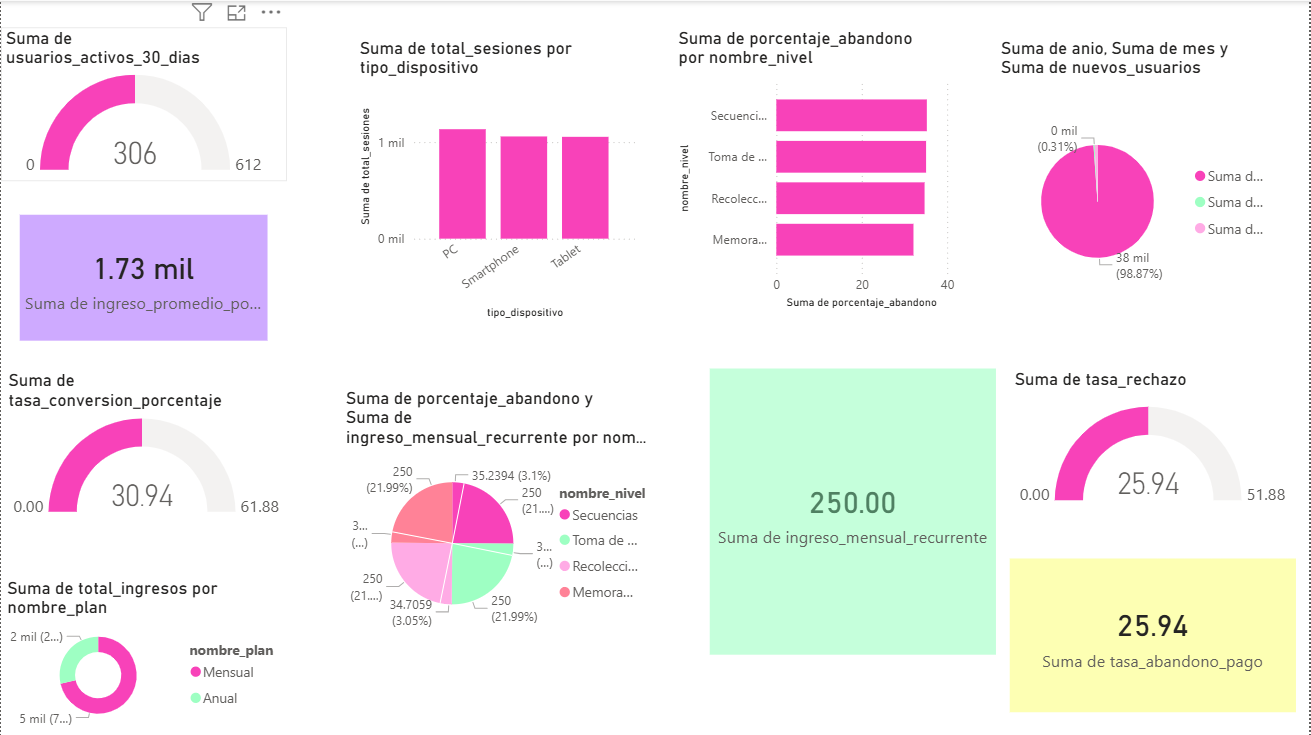

The page's visual inventory and layout, read from the dashboard file:
{"tool":"powerbi","page":{"name":"Página 1","canvas":[1280,720],"ordinal":0},"visuals":[{"type":"card","fields":{"Values":["Sum(pimpamboing kpi_7_mrr.ingreso_mensual_recurrente)"]},"box":[693,359.5,279.9,279.9],"z":0},{"type":"barChart","fields":{"Category":["pimpamboing kpi_6_abandono_niveles.nombre_nivel"],"Y":["Sum(pimpamboing kpi_6_abandono_niveles.porcentaje_abandono)"]},"box":[657.3,26.1,279.9,279.9],"z":1000},{"type":"donutChart","fields":{"Category":["pimpamboing kpi_4_revenue_mix.nombre_plan"],"Y":["Sum(pimpamboing kpi_4_revenue_mix.total_ingresos)"]},"box":[1.2,563.7,280,150.4],"z":2000},{"type":"pieChart","fields":{"Category":["pimpamboing kpi_6_abandono_niveles.nombre_nivel"],"Y":["Sum(pimpamboing kpi_6_abandono_niveles.porcentaje_abandono)","Sum(pimpamboing kpi_7_mrr.ingreso_mensual_recurrente)"]},"box":[332.6,377.9,308.2,243.3],"z":3000},{"type":"pieChart","fields":{"Y":["Sum(pimpamboing kpi_8_crecimiento_usuarios.anio)","Sum(pimpamboing kpi_8_crecimiento_usuarios.mes)","Sum(pimpamboing kpi_8_crecimiento_usuarios.nuevos_usuarios)"]},"box":[972.9,35.7,279.9,279.9],"z":4000},{"type":"gauge","fields":{"Y":["Sum(pimpamboing kpi_9_rechazo_pagos.tasa_rechazo)"]},"box":[986.6,359.5,279.9,150.9],"z":5000},{"type":"gauge","fields":{"Y":["Sum(pimpamboing kpi_1_conversion_premium.tasa_conversion_porcentaje)"]},"box":[2.4,360.7,280,150.4],"z":6000},{"type":"card","fields":{"Values":["Sum(pimpamboing kpi_2_arpu.ingreso_promedio_por_plan)"]},"box":[18.3,209.1,242.1,123.5],"z":7000},{"type":"card","fields":{"Values":["Sum(pimpamboing kpi_3_abandono_checkout.tasa_abandono_pago)"]},"box":[986.8,545.4,280,150.4],"z":8000},{"type":"clusteredColumnChart","fields":{"Category":["pimpamboing kpi_5_dispositivos.tipo_dispositivo"],"Y":["Sum(pimpamboing kpi_5_dispositivos.total_sesiones)"]},"box":[346.1,35.5,280,280],"z":9000},{"type":"gauge","fields":{"Y":["Sum(pimpamboing kpi_10_retencion_usuarios.usuarios_activos_30_dias)"]},"box":[0,26.1,279.9,149.6],"z":10000}]}

Visuals, with their boxes in screenshot pixels (x1, y1, x2, y2), scaled from the page's 1280x720 canvas onto the 1311x735 screenshot:
card - Sum(pimpamboing kpi_7_mrr.ingreso_mensual_recurrente): (left=710, top=367, right=996, bottom=653)
barChart - pimpamboing kpi_6_abandono_niveles.nombre_nivel x Sum(pimpamboing kpi_6_abandono_niveles.porcentaje_abandono): (left=673, top=27, right=960, bottom=312)
donutChart - pimpamboing kpi_4_revenue_mix.nombre_plan x Sum(pimpamboing kpi_4_revenue_mix.total_ingresos): (left=1, top=575, right=288, bottom=729)
pieChart - pimpamboing kpi_6_abandono_niveles.nombre_nivel x Sum(pimpamboing kpi_6_abandono_niveles.porcentaje_abandono): (left=341, top=386, right=656, bottom=634)
pieChart - Sum(pimpamboing kpi_8_crecimiento_usuarios.anio) x Sum(pimpamboing kpi_8_crecimiento_usuarios.mes): (left=996, top=36, right=1283, bottom=322)
gauge - Sum(pimpamboing kpi_9_rechazo_pagos.tasa_rechazo): (left=1010, top=367, right=1297, bottom=521)
gauge - Sum(pimpamboing kpi_1_conversion_premium.tasa_conversion_porcentaje): (left=2, top=368, right=289, bottom=522)
card - Sum(pimpamboing kpi_2_arpu.ingreso_promedio_por_plan): (left=19, top=213, right=267, bottom=340)
card - Sum(pimpamboing kpi_3_abandono_checkout.tasa_abandono_pago): (left=1011, top=557, right=1297, bottom=710)
clusteredColumnChart - pimpamboing kpi_5_dispositivos.tipo_dispositivo x Sum(pimpamboing kpi_5_dispositivos.total_sesiones): (left=354, top=36, right=641, bottom=322)
gauge - Sum(pimpamboing kpi_10_retencion_usuarios.usuarios_activos_30_dias): (left=0, top=27, right=287, bottom=179)
